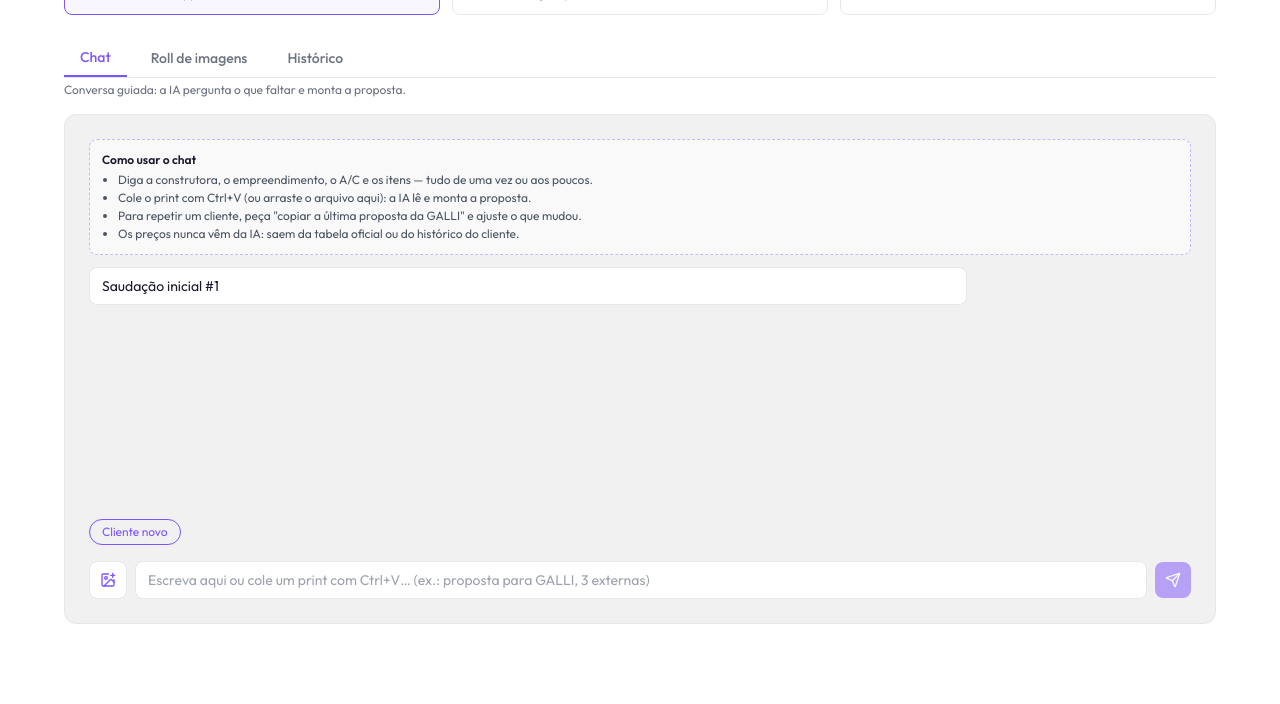
PropostaAgent — Nova proposta reseta o chat › limpa mensagens antigas e busca nova saudação ao clicar em Nova proposta
(page scrolled)
Expected: the text "Saudação inicial #1" is shown, [89,267,967,305]
// Usuário conversa, chega um levantamento pronto para gerar.
Click the button "Cliente novo".
click(135, 532)  # box [89,519,181,545]
(page scrolled)
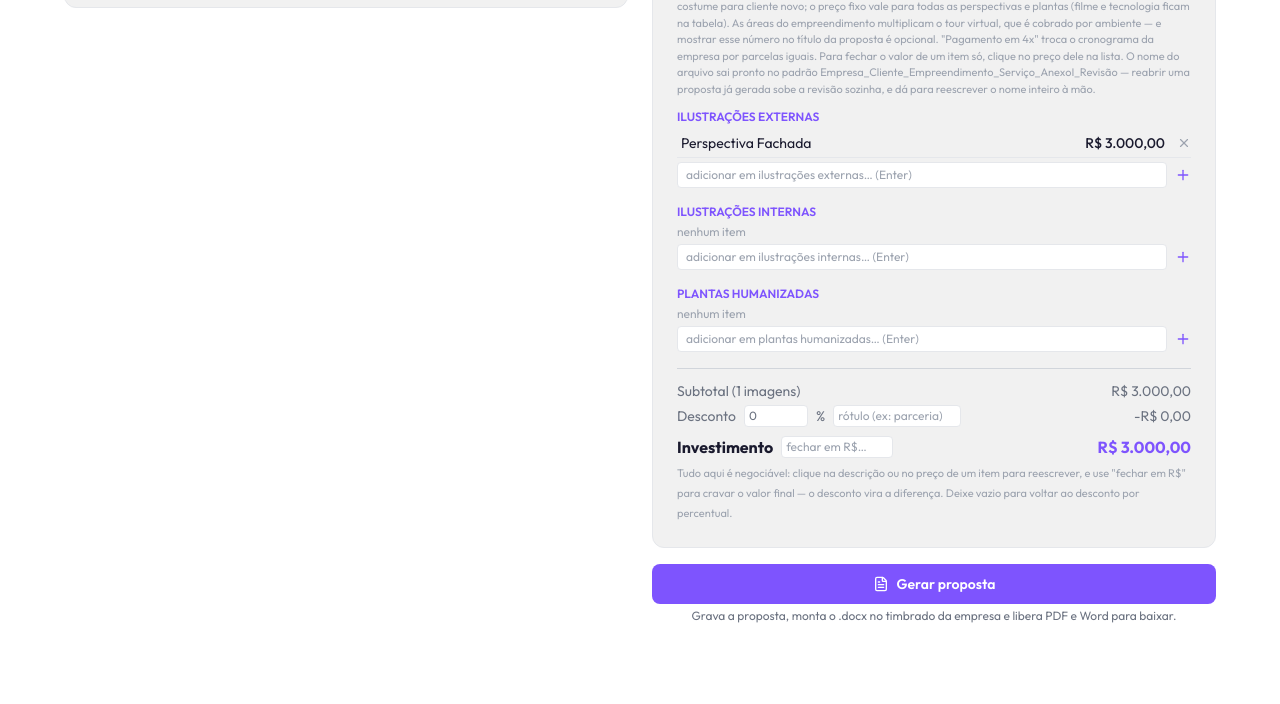
// Gera a proposta.
Click the button "Gerar proposta".
click(934, 584)  # box [652,564,1216,604]
(page scrolled)
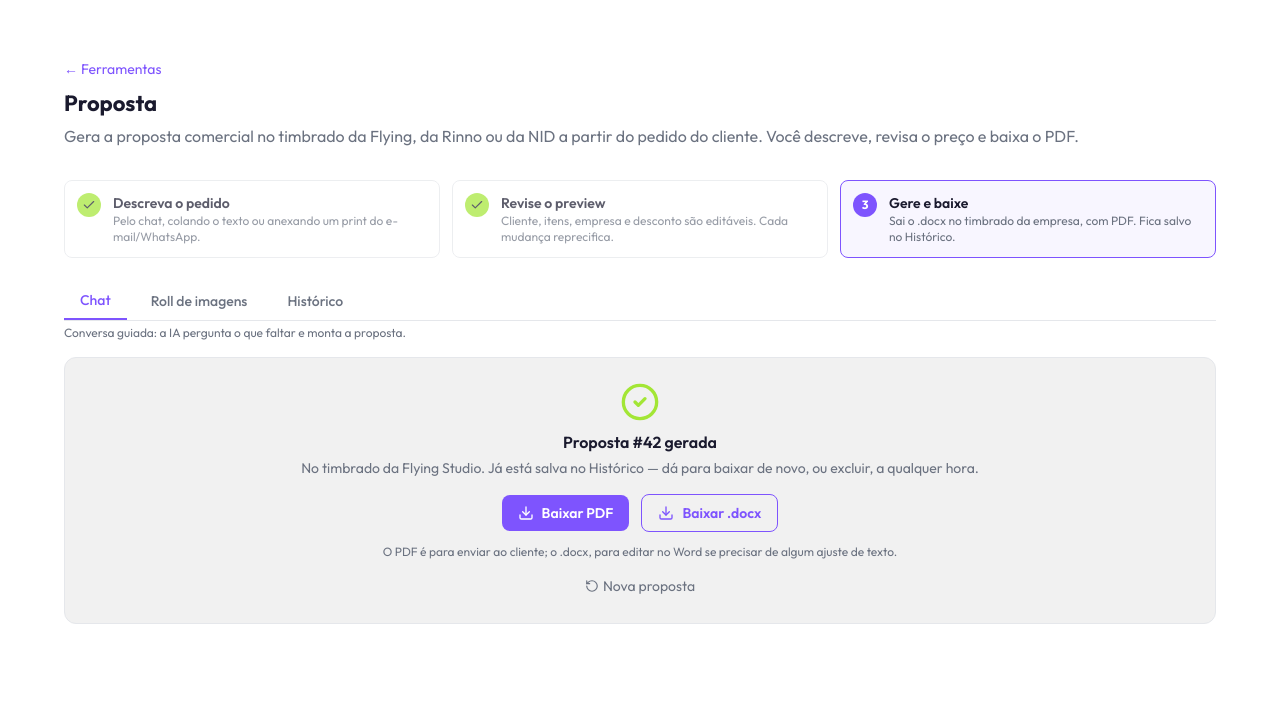
Expected: the text "Proposta #42 gerada" is shown, [563,432,717,452]
// Clica em "Nova proposta": formulário reseta e chat deve começar do zero.
Click the button "Nova proposta".
click(640, 586)  # box [585,576,695,596]
(page scrolled)
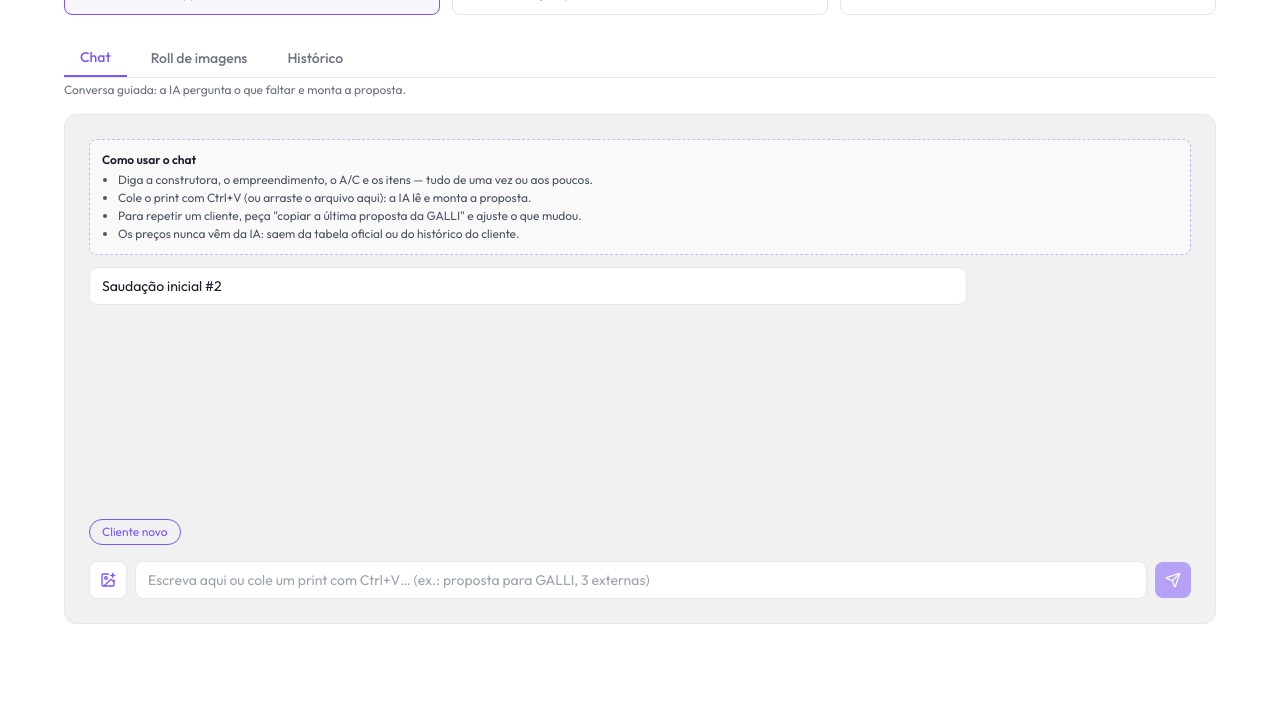
Expected: the text "Proposta #42 gerada" is gone
Expected: the text "Saudação inicial #2" is shown once, [89,267,967,305]
